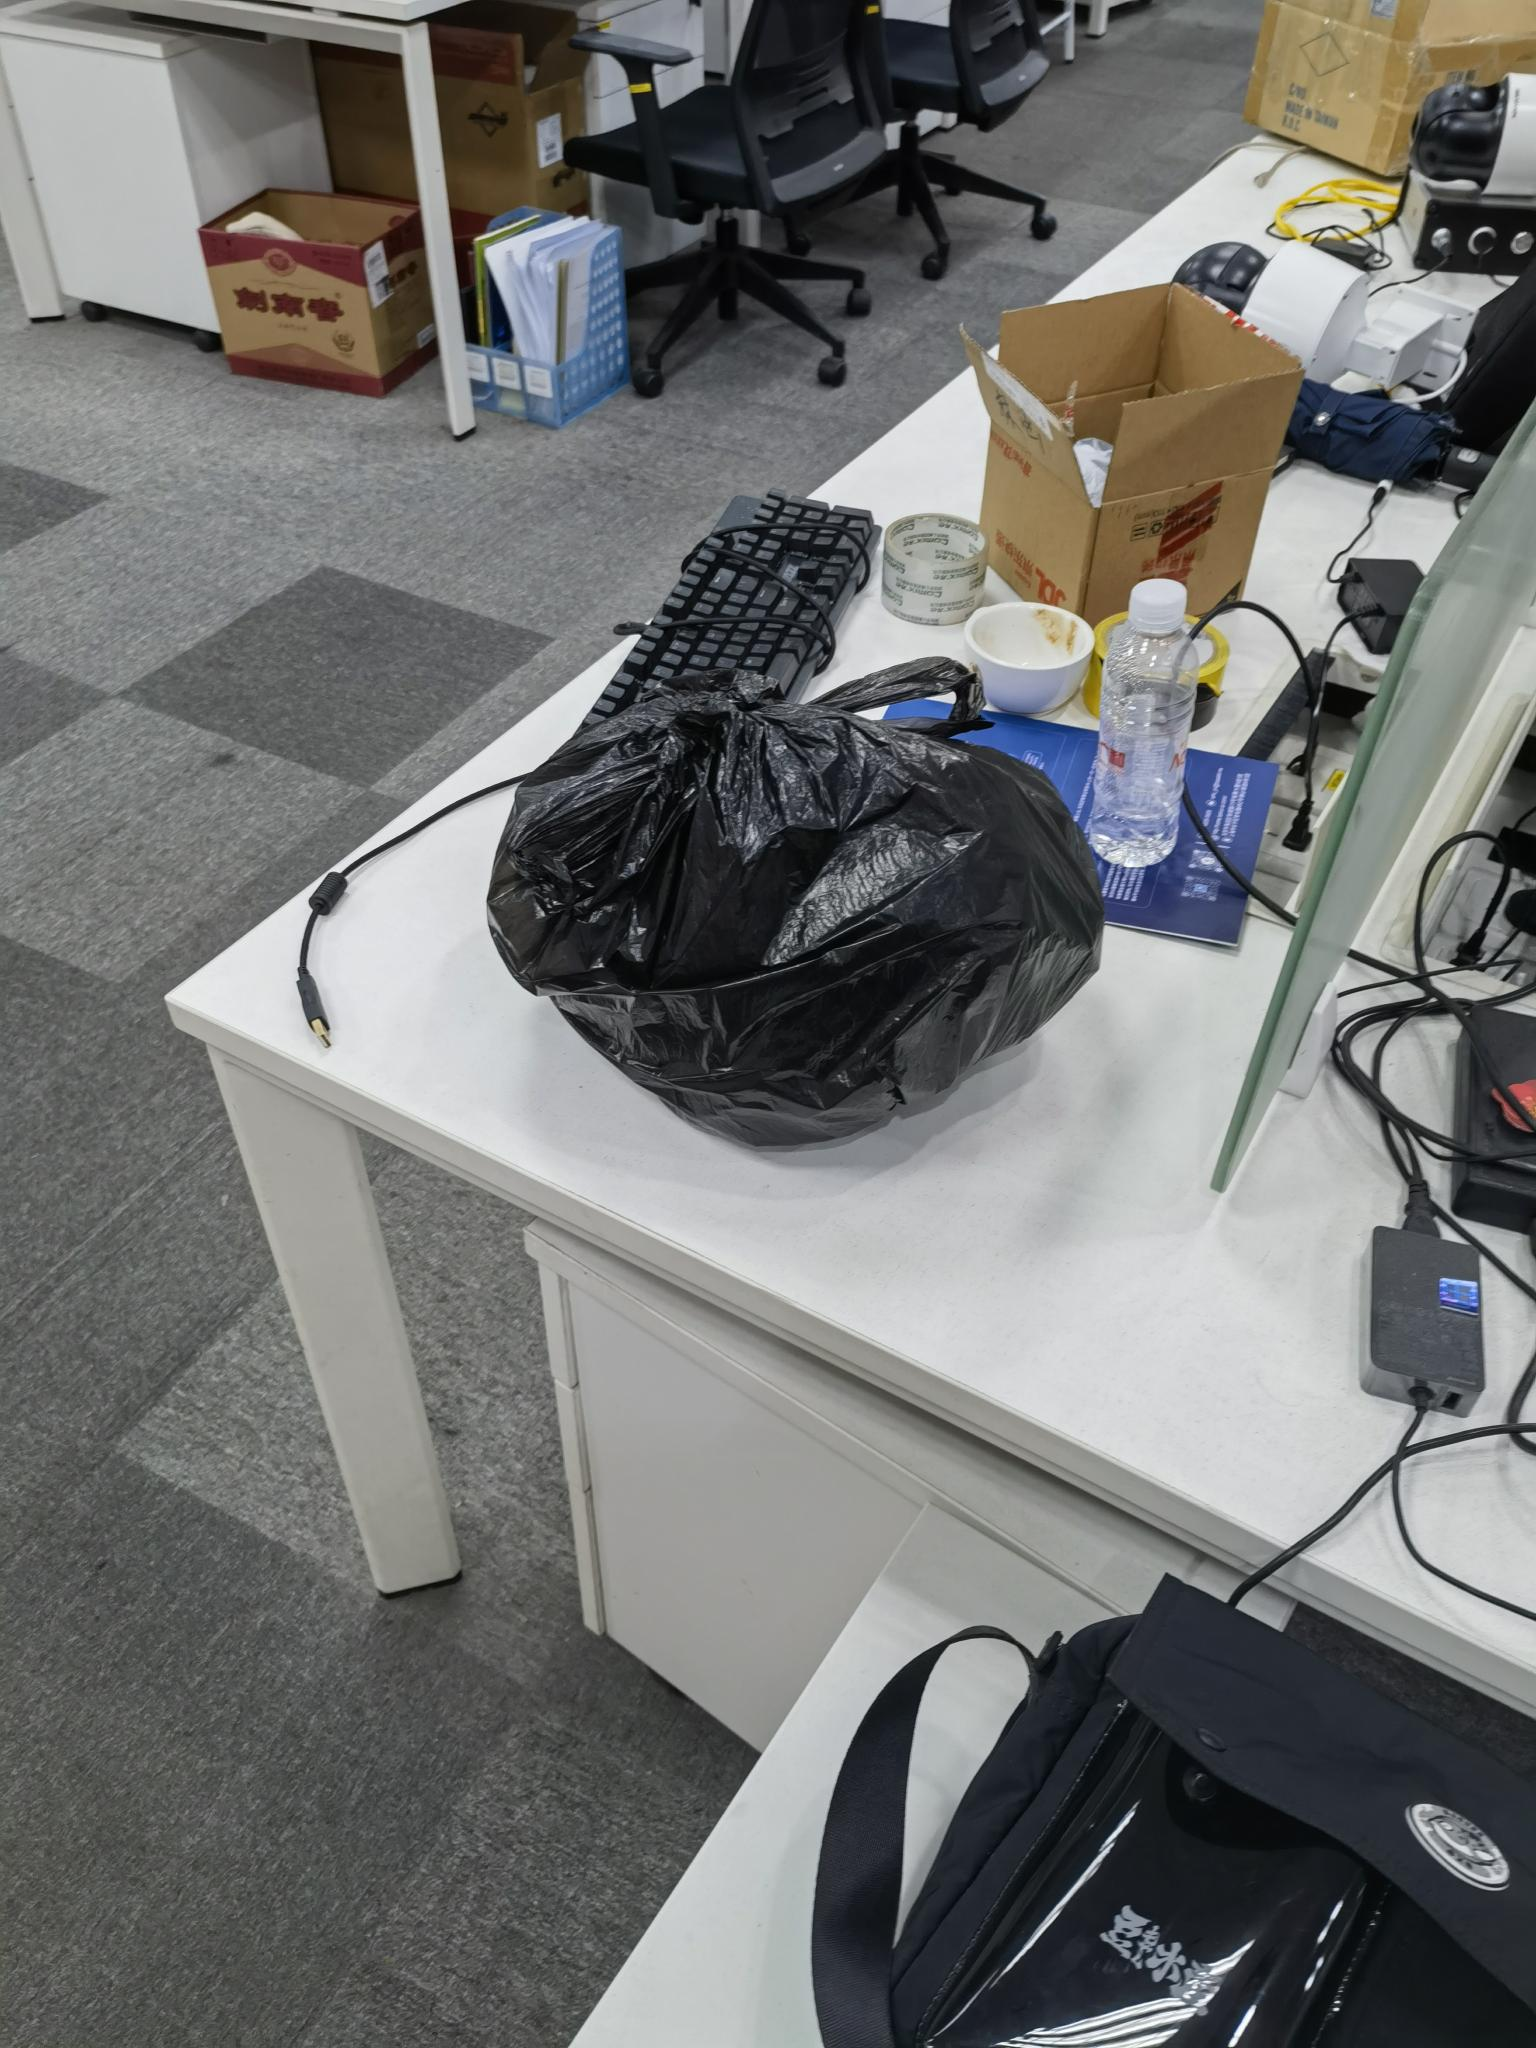black_bag: (486, 651, 1100, 1153)
